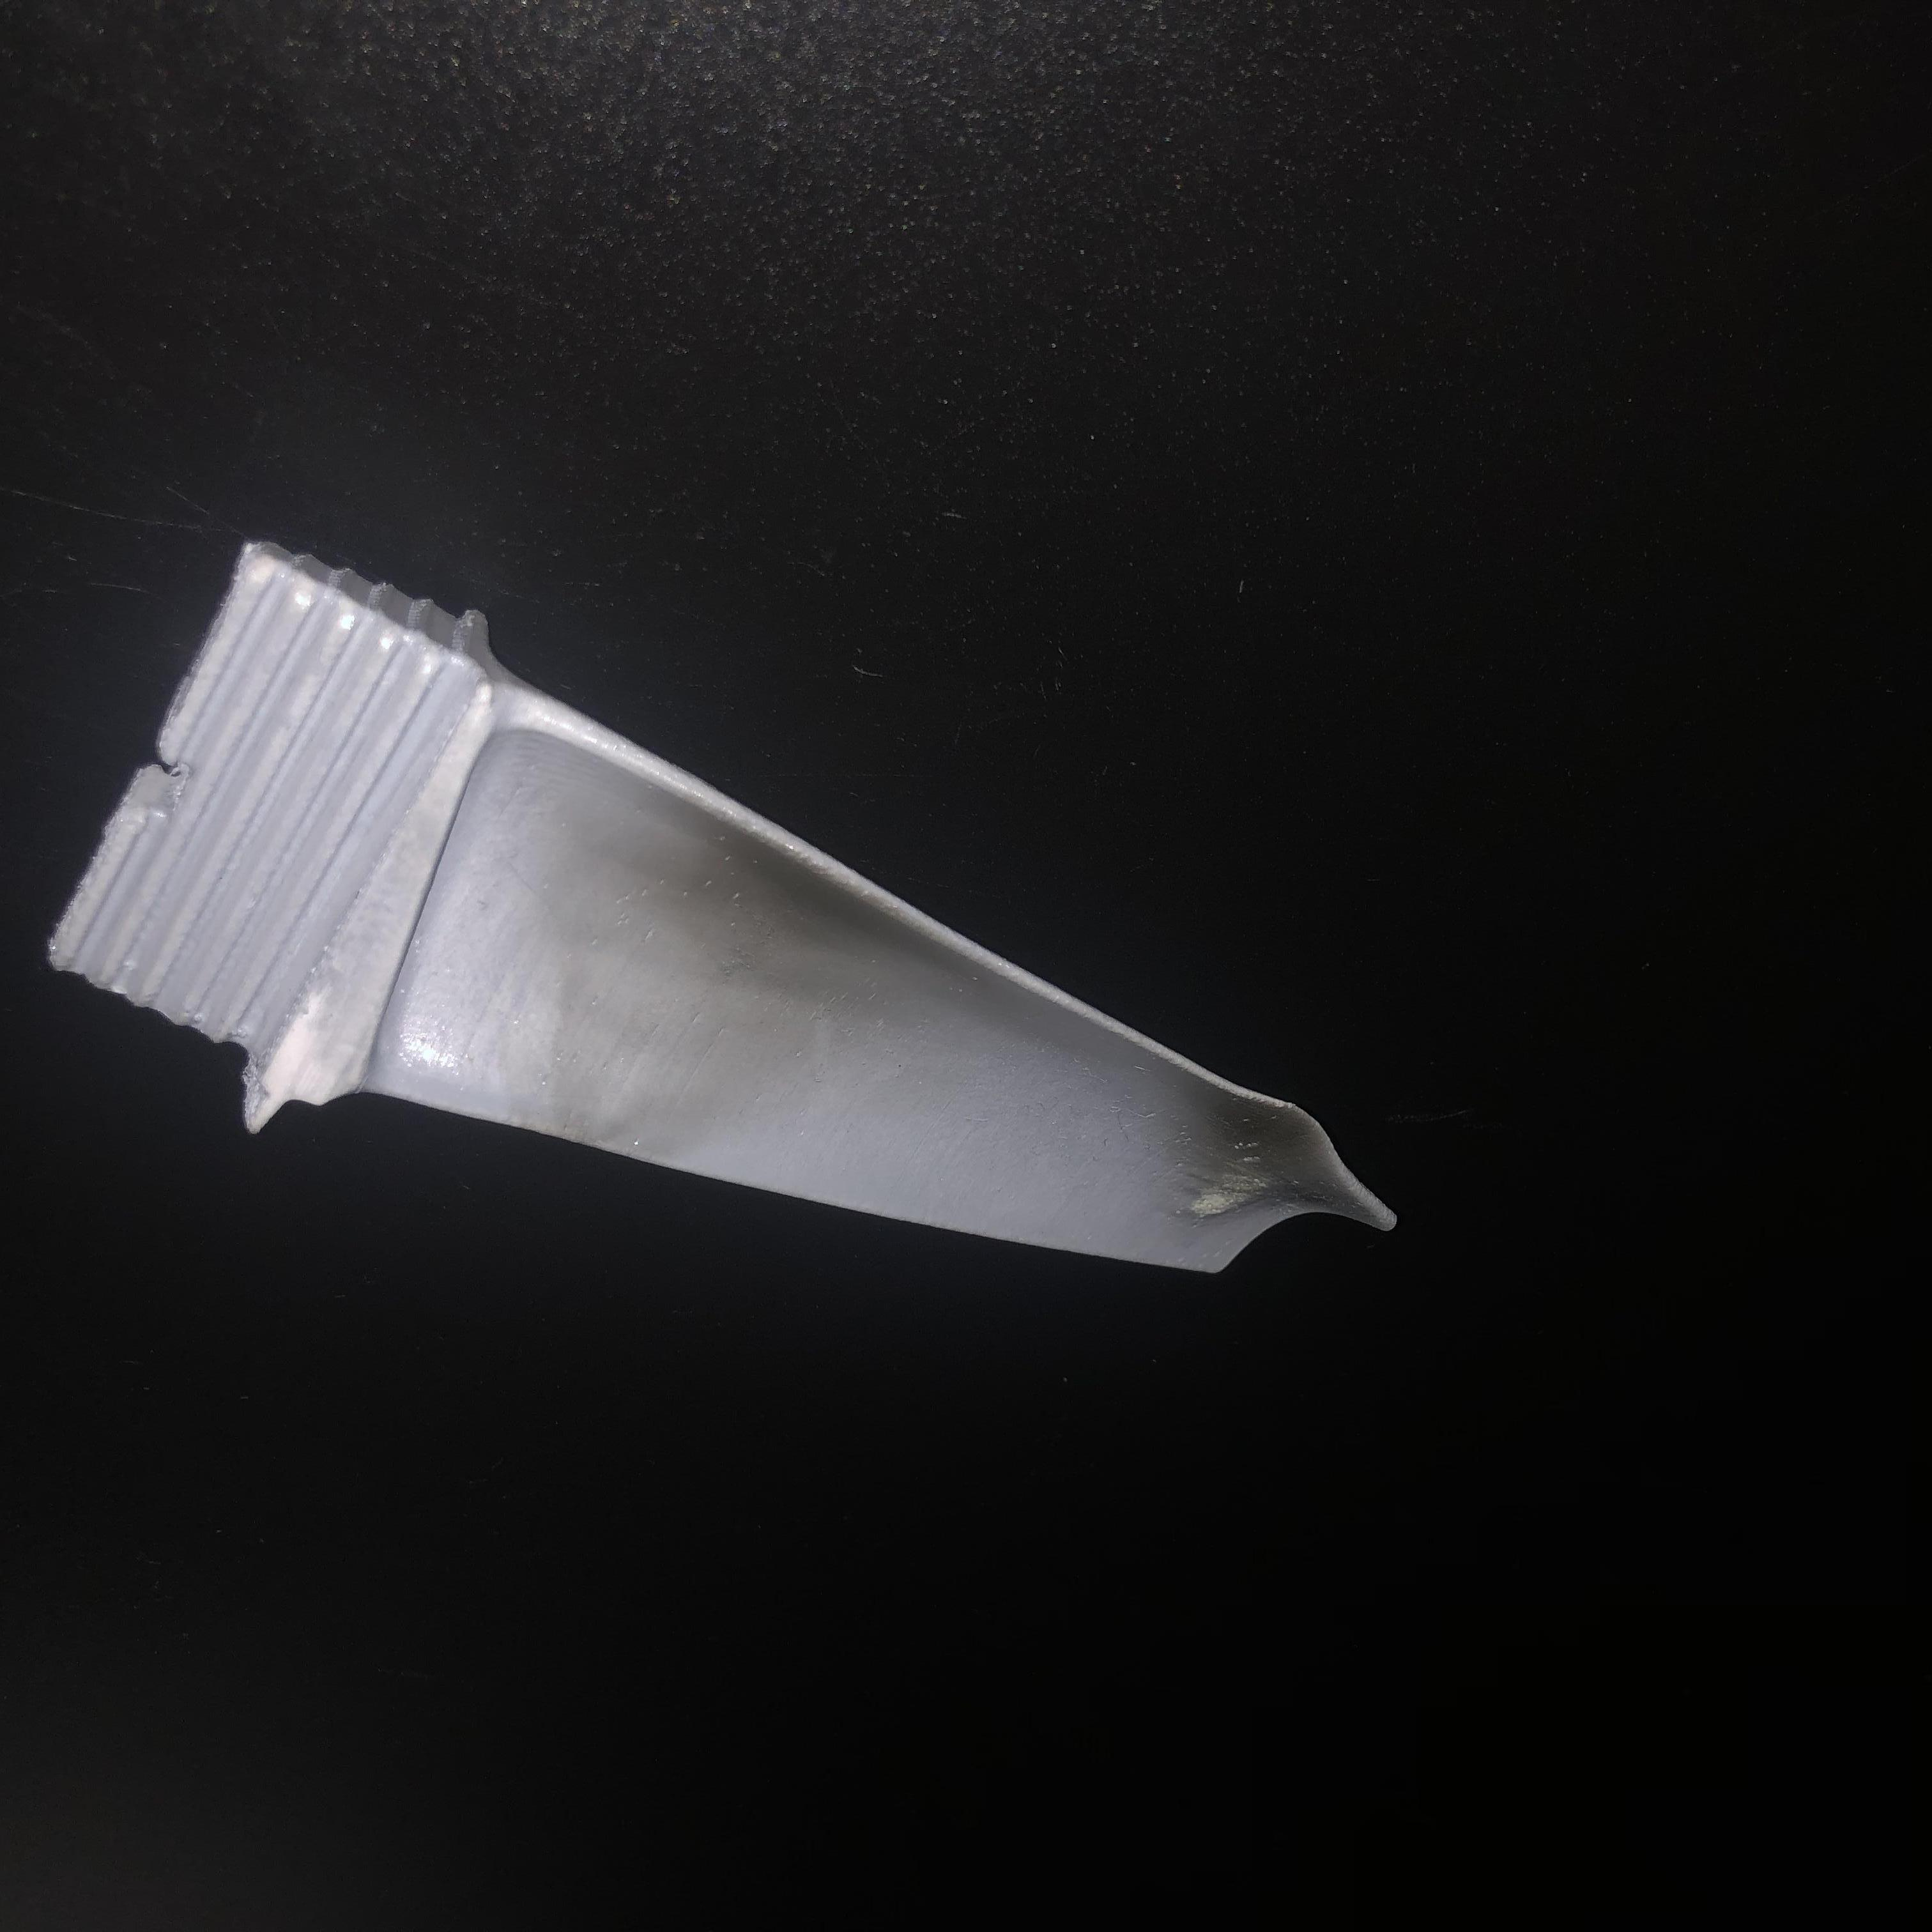ablation: (685, 839, 938, 1023), (1198, 1081, 1343, 1237)
